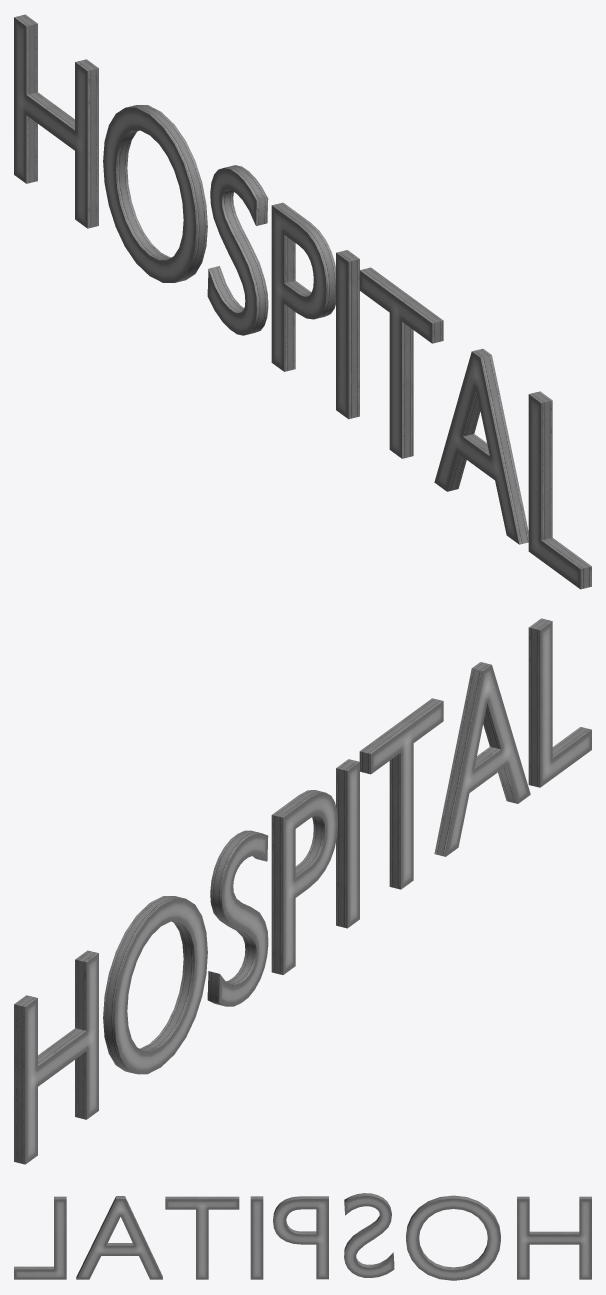
File: HH_Signboard_Hospital_Broken.fbx
3 views of the same model, one above another, from view 1: azimuth 30°, elevation 25°; view 2: azimuth 150°, elevation 25°; view 3: azimuth 270°, elevation 25° (orthographic). The views are drawn at different scales.
Visible parts, largest first — view 1: HH_Signboard_Hospital_Broken_LOD0; view 2: HH_Signboard_Hospital_Broken_LOD0; view 3: HH_Signboard_Hospital_Broken_LOD0.
Part boxes in pixels (x1=…): HH_Signboard_Hospital_Broken_LOD0: x1=14, y1=14, x2=591, y2=589; HH_Signboard_Hospital_Broken_LOD0: x1=14, y1=618, x2=591, y2=1164; HH_Signboard_Hospital_Broken_LOD0: x1=14, y1=1193, x2=591, y2=1280.
Size of what is drawn, in the model's own units: 9.61 by 133 by 823.
